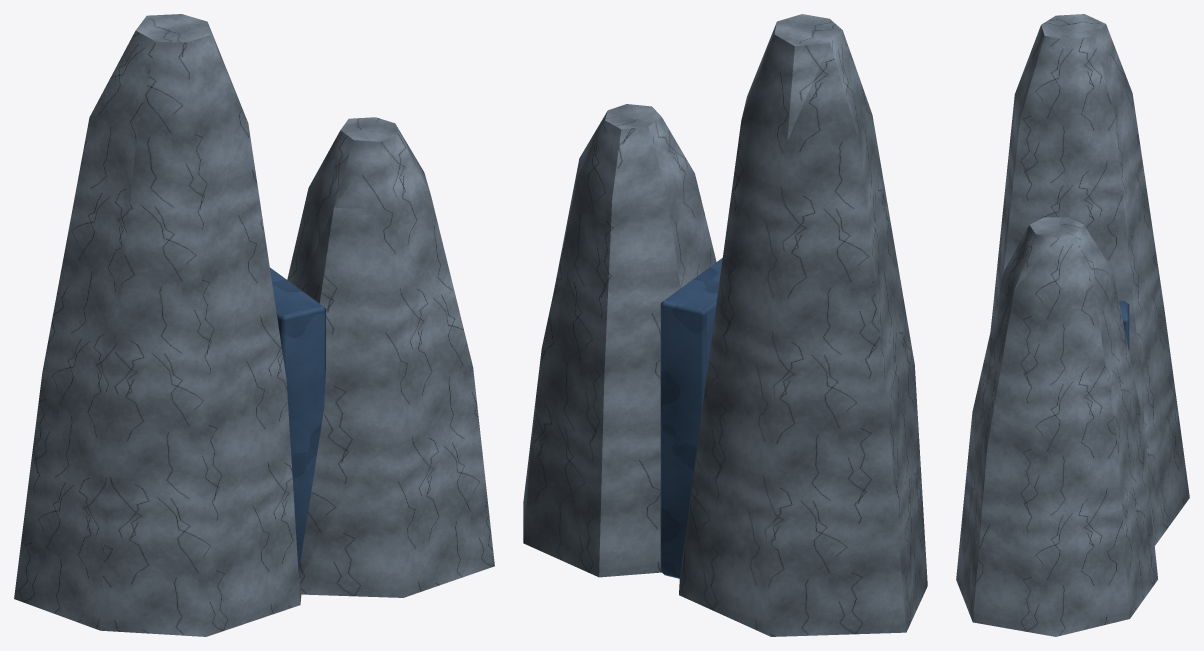
File: tall_split_rock.glb
The picture shows the model from 3 angles, left to right: view 1: azimuth 30°, elevation 25°; view 2: azimuth 150°, elevation 25°; view 3: azimuth 270°, elevation 25°; orthographic projection. The views are drawn at different scales.
Visible parts, largest first — view 1: DL008_TallSplitRock_stone_blue, DL008_TallSplitRock_shadow_blue; view 2: DL008_TallSplitRock_stone_blue, DL008_TallSplitRock_shadow_blue; view 3: DL008_TallSplitRock_stone_blue.
Part boxes in pixels (x1,y1,x2,y2): DL008_TallSplitRock_stone_blue: [14, 14, 494, 636]; DL008_TallSplitRock_shadow_blue: [270, 267, 325, 571]; DL008_TallSplitRock_stone_blue: [523, 14, 927, 636]; DL008_TallSplitRock_shadow_blue: [660, 258, 722, 578]; DL008_TallSplitRock_stone_blue: [956, 14, 1189, 636].
Size of the model in its own units: 3.2 by 4 by 1.75.
Materials: 2 (2 with a texture image).
